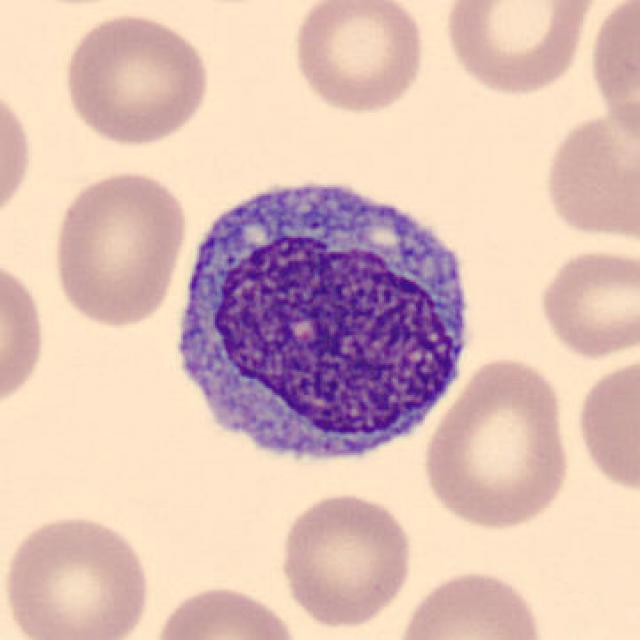Monocyte: (158, 155, 486, 481)
RBC: (420, 351, 576, 532), (48, 166, 190, 331), (59, 9, 215, 148), (276, 488, 418, 632), (0, 509, 154, 640), (288, 0, 430, 118), (439, 0, 603, 99), (539, 102, 638, 247), (534, 244, 638, 362), (391, 566, 551, 640), (572, 351, 640, 497), (149, 580, 304, 640), (585, 0, 640, 159), (0, 250, 50, 418), (0, 78, 36, 231)
